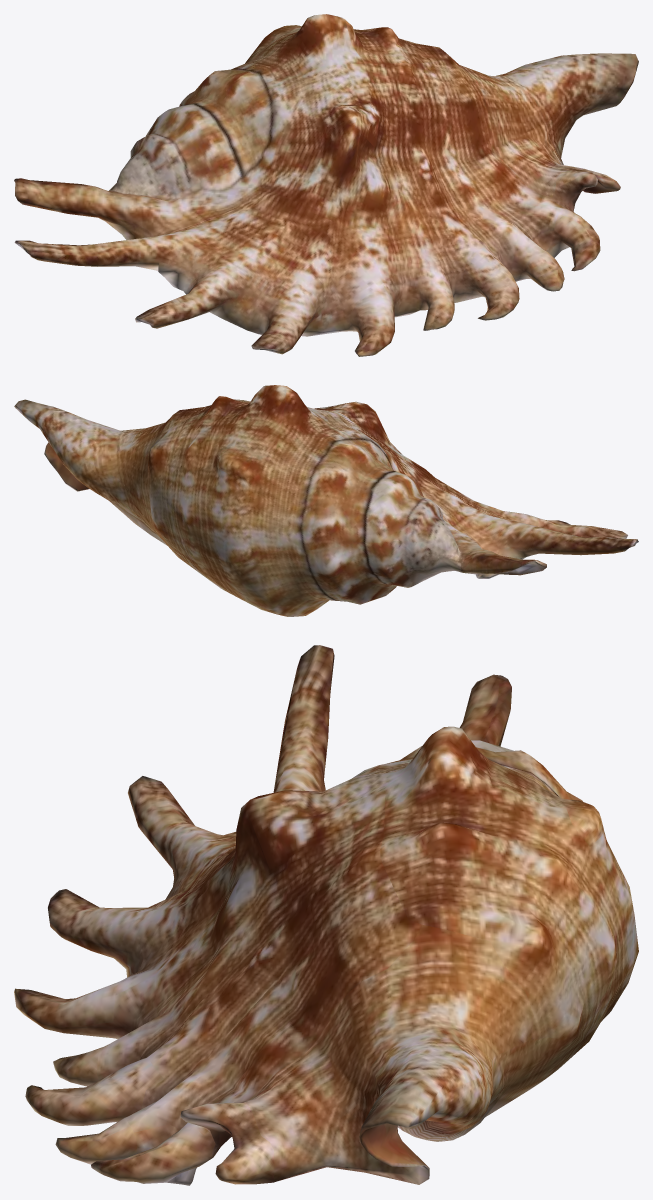
Rendered from lambis_shell.glb.
3 views of the same model, one above another, from view 1: azimuth 30°, elevation 25°; view 2: azimuth 150°, elevation 25°; view 3: azimuth 270°, elevation 25° (orthographic). The views are drawn at different scales.
Visible parts, largest first — view 1: lambis_shell; view 2: lambis_shell; view 3: lambis_shell.
Part boxes in pixels (bbox=[...]): lambis_shell: bbox=[14, 14, 638, 356]; lambis_shell: bbox=[14, 385, 638, 616]; lambis_shell: bbox=[14, 645, 638, 1185].
Bounding box in the file's own units: 0.1395 × 0.0465 × 0.0744.
1 material, 1 textured.
